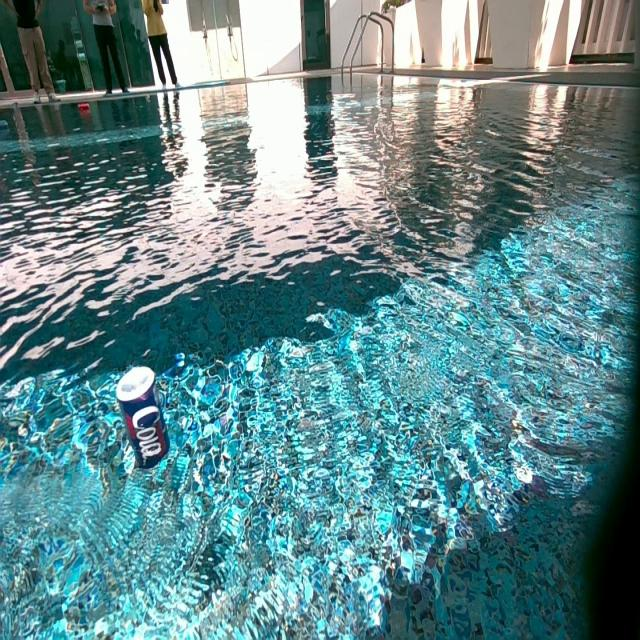Cans: (117, 364, 172, 473), (78, 104, 89, 115), (0, 119, 9, 129)
